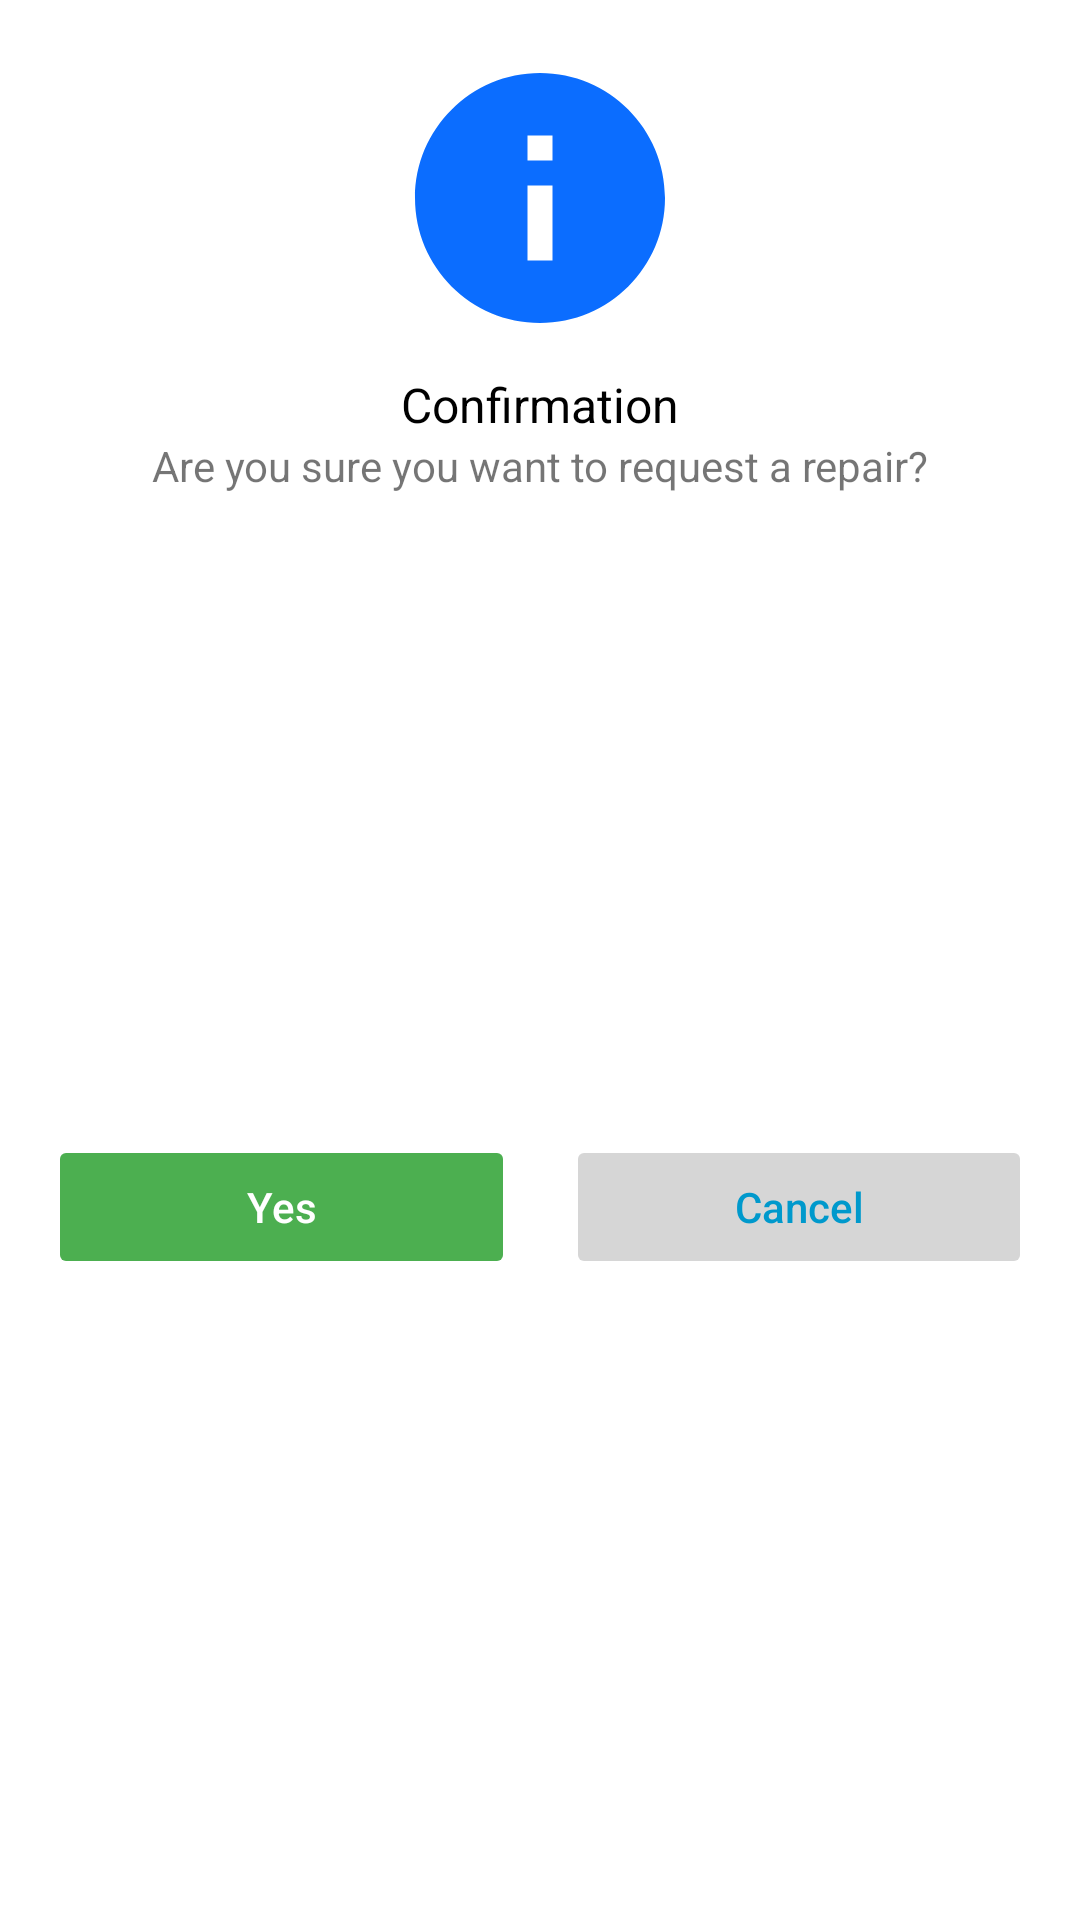

Icons on this 1080px x 1920px Android screen, each with its box as (x1, y1, x2, y2):
info: (415, 73, 665, 323)
